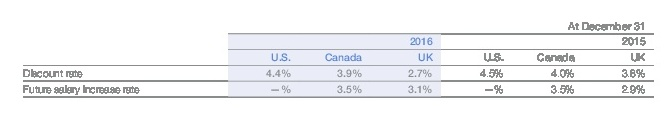table: (0, 0, 670, 114)
